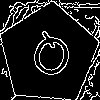Q: (24, 29, 77, 89)
